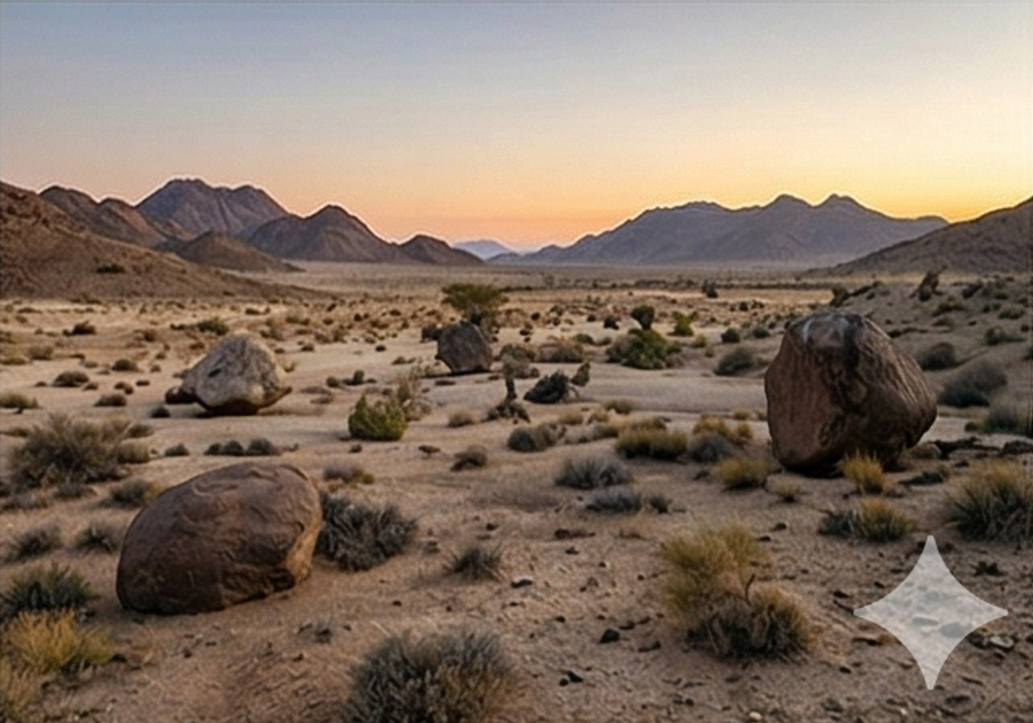rocks: (116, 463, 321, 612), (765, 311, 936, 470), (172, 334, 290, 415), (437, 321, 490, 372)
